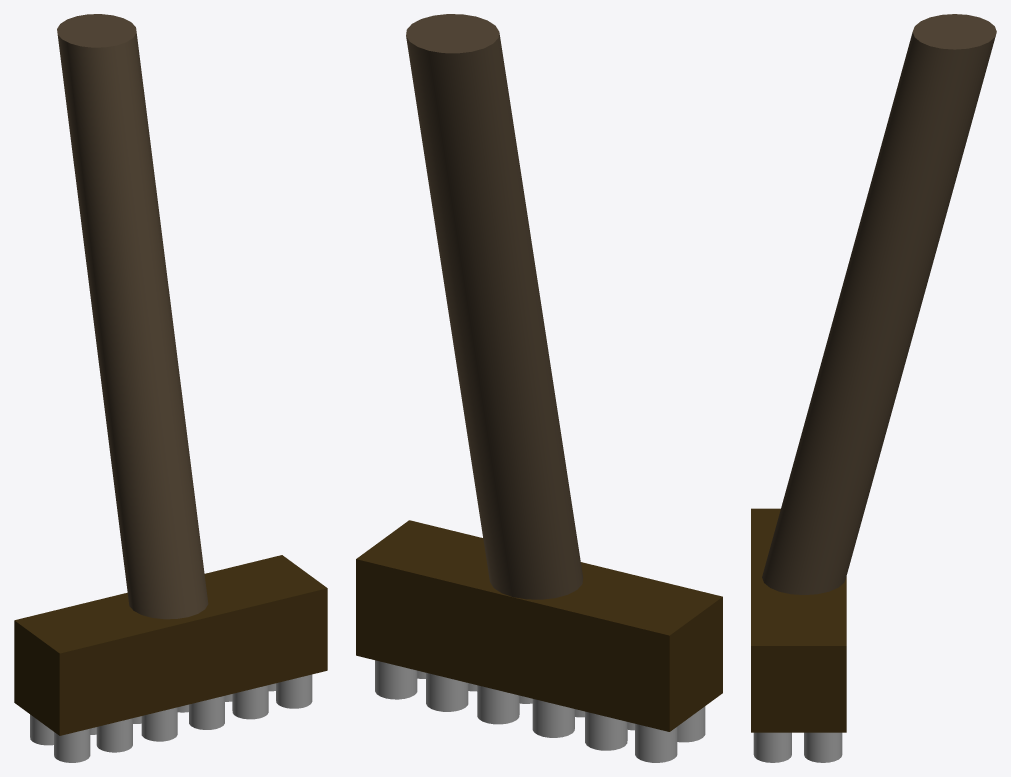
Rendered from Broom.fbx.
3 views of the same model, side by side, from view 1: azimuth 30°, elevation 25°; view 2: azimuth 150°, elevation 25°; view 3: azimuth 270°, elevation 25° (orthographic). The views are drawn at different scales.
Parts seen in each view (by area): view 1: Broom_handle, Broom_head, broom_teeth9, broom_teeth6, Broom_teeth, broom_teeth2, brook_teeth, broom_teeth4; view 2: Broom_handle, Broom_head, broom_teeth8, broom_teeth3, broom_teeth5, broom_teeth, broom_teeth7, broom_teeth1, broom_teeth9; view 3: Broom_handle, Broom_head, broom_teeth, Broom_teeth.
Boxes of the visible parts, box(x1,y1,x2,y2) form: Broom_handle: box(57, 14, 208, 619); Broom_head: box(14, 555, 327, 735); broom_teeth9: box(54, 728, 90, 762); broom_teeth6: box(141, 707, 177, 741); Broom_teeth: box(276, 674, 312, 708); broom_teeth2: box(232, 685, 268, 719); brook_teeth: box(96, 718, 132, 752); broom_teeth4: box(189, 696, 224, 729); Broom_handle: box(406, 14, 583, 599); Broom_head: box(356, 520, 722, 731); broom_teeth8: box(635, 723, 677, 762); broom_teeth3: box(477, 685, 519, 724); broom_teeth5: box(532, 699, 574, 737); broom_teeth: box(375, 660, 417, 699); broom_teeth7: box(585, 711, 627, 750); broom_teeth1: box(426, 672, 468, 711); broom_teeth9: box(677, 706, 705, 742); Broom_handle: box(762, 14, 996, 594); Broom_head: box(751, 508, 846, 732); broom_teeth: box(804, 732, 842, 762); Broom_teeth: box(753, 732, 791, 762).
Bounding box in the file's own units: 4.37 × 9.87 × 3.3.
